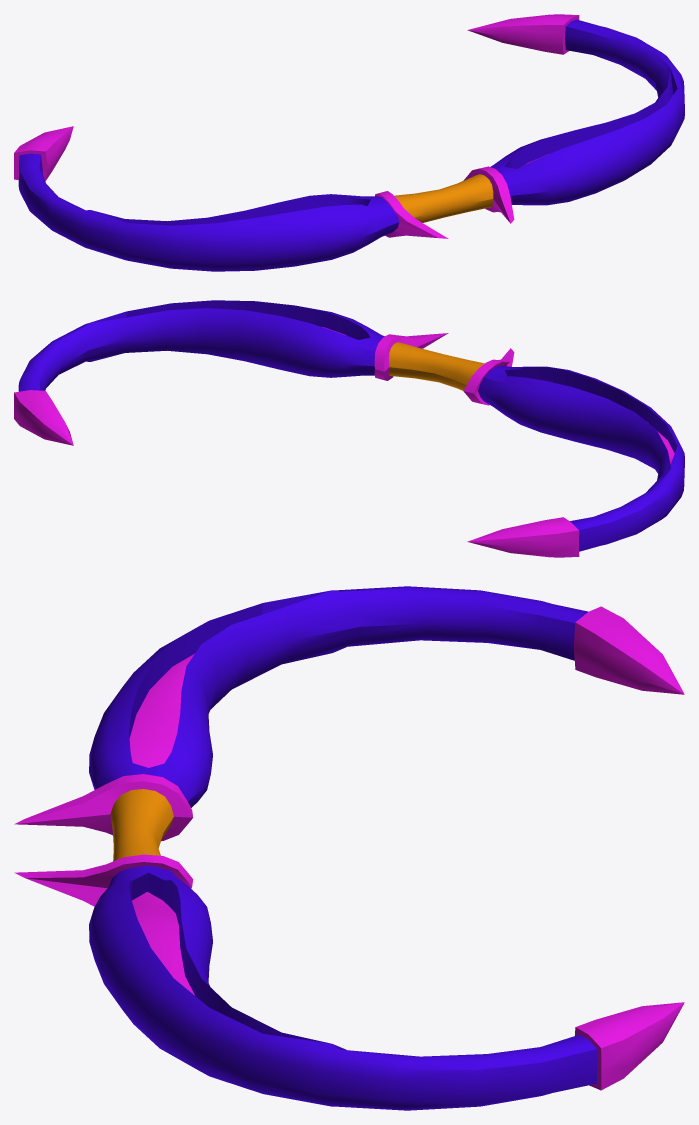
Rendered from spiritbow.glb.
3 views of the same model, one above another, from view 1: azimuth 30°, elevation 25°; view 2: azimuth 150°, elevation 25°; view 3: azimuth 270°, elevation 25° (orthographic). The views are drawn at different scales.
Parts seen in each view (by area): view 1: aim; view 2: aim; view 3: aim.
Boxes of the visible parts, x1,y1,x2,y2 form: aim: (14,14,684,271); aim: (14,300,684,557); aim: (14,586,684,1110).
Bounding box in the file's own units: 2.7 × 0.2292 × 1.58.
